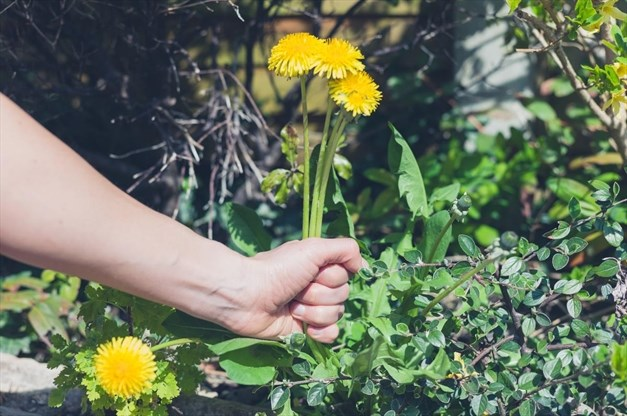dandelion: (261, 29, 320, 79), (322, 38, 371, 79), (330, 80, 389, 113)
